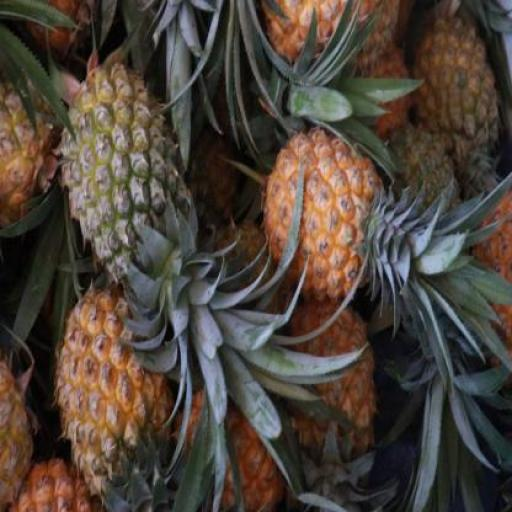------------------------------: (55, 58, 186, 282)
Pineapple - v8 v1: (52, 283, 170, 481), (260, 124, 382, 308)
